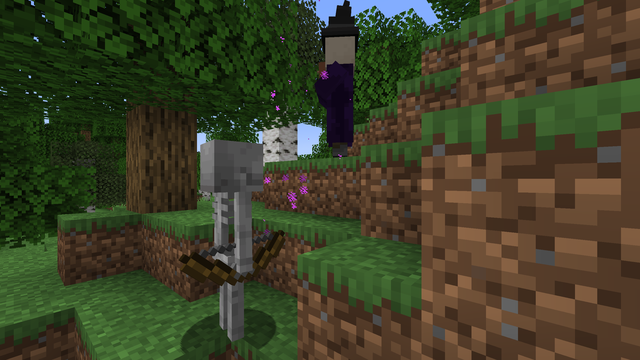sorcieres: (314, 25, 364, 159)
squelettes: (190, 139, 271, 358)
